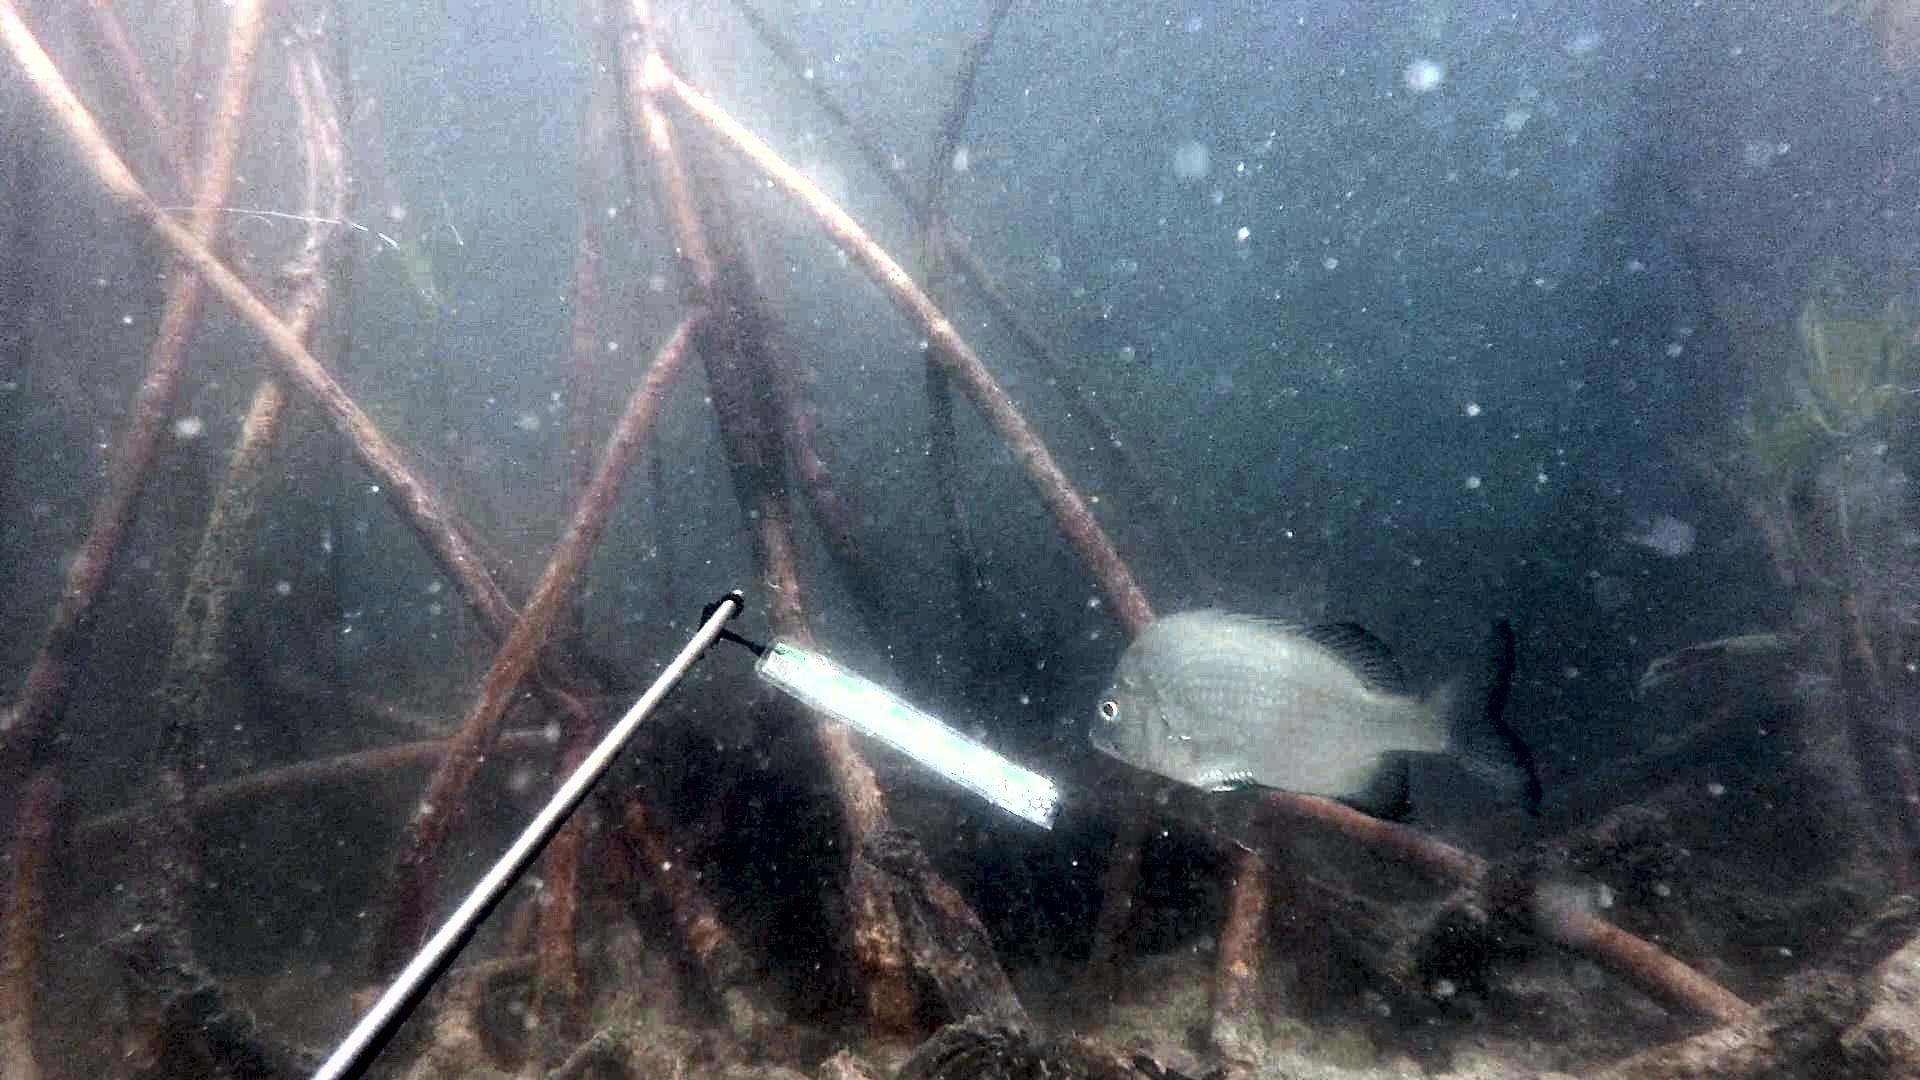acanthopagrus palmaris: (1073, 591, 1556, 849)
